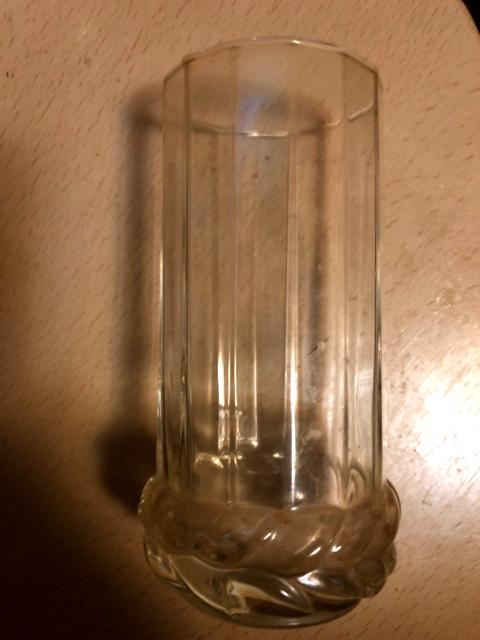Cup: (140, 39, 399, 627)
